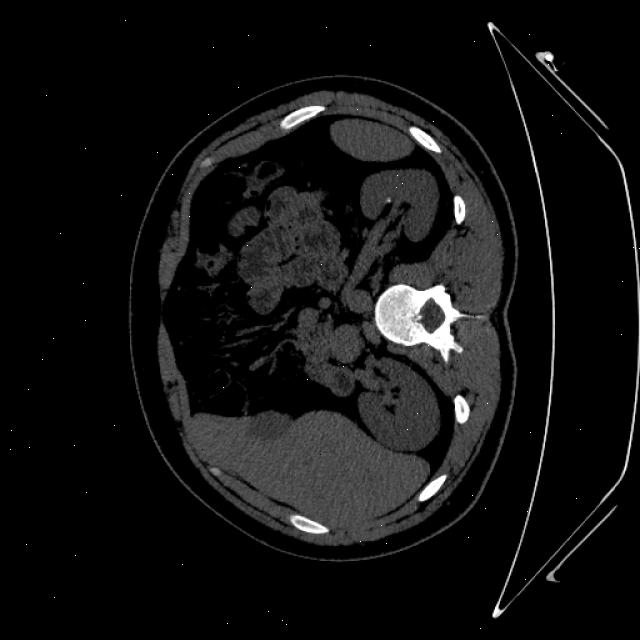kidneystone: (385, 198, 391, 201)
